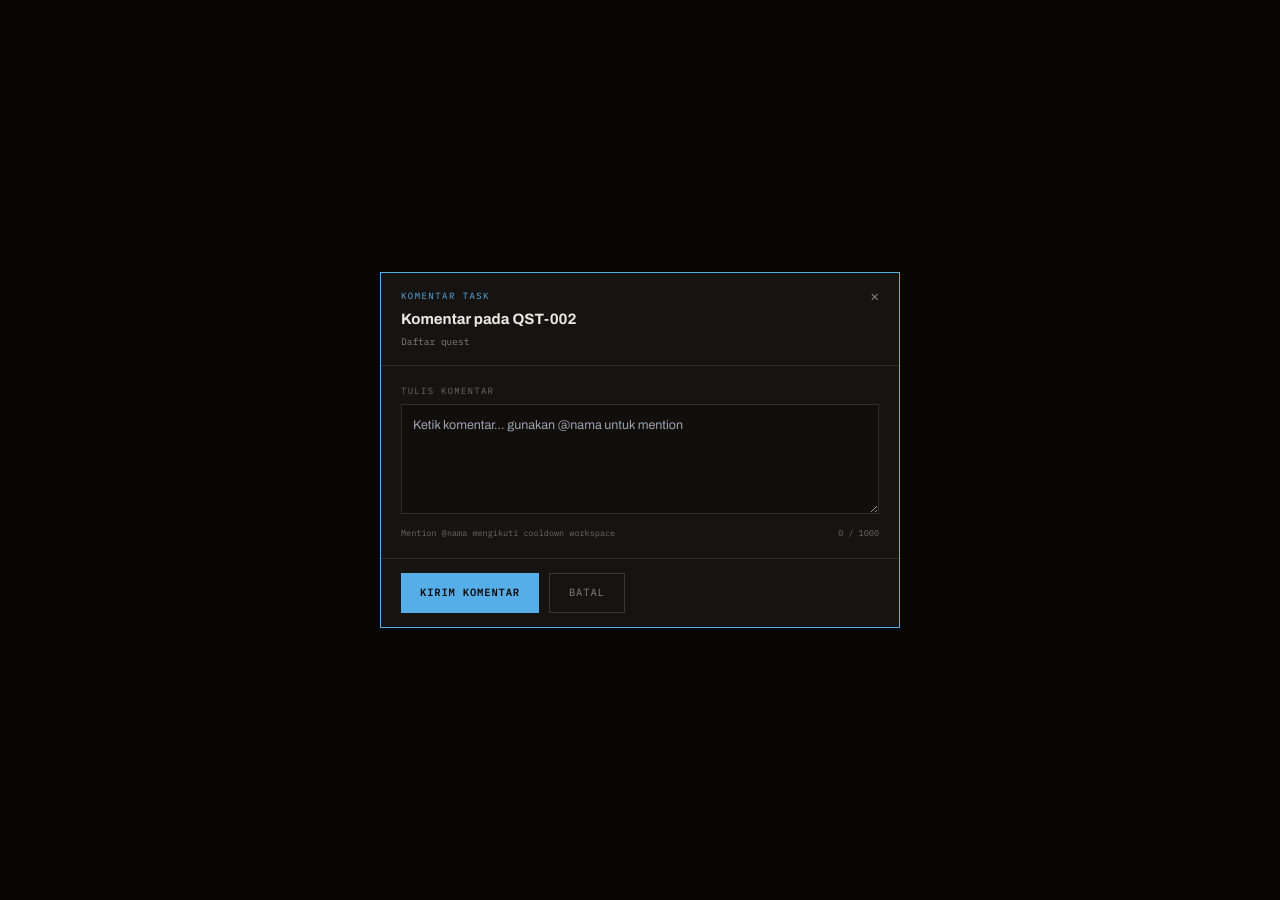
Test case: CommentModal › menghitung karakter dan mention, pesan galat hilang saat mengetik
Click the button "KIRIM KOMENTAR" at point(470, 593), box x1=401 y1=573 x2=539 y2=613
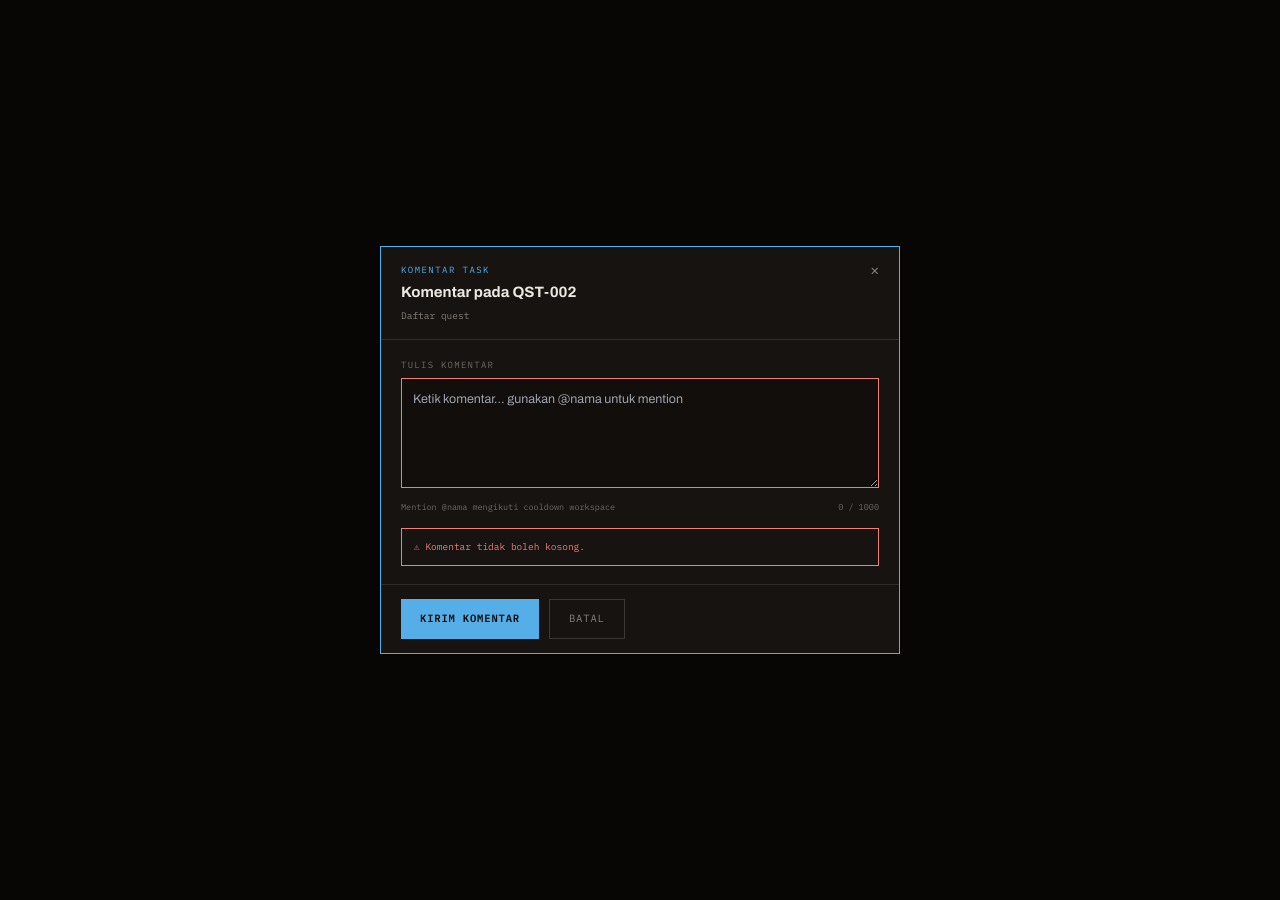
Type "cek @eka dan @budi" into the text box with placeholder "Ketik komentar… gunakan @nama untuk mention" at point(640, 433), box x1=401 y1=378 x2=879 y2=488
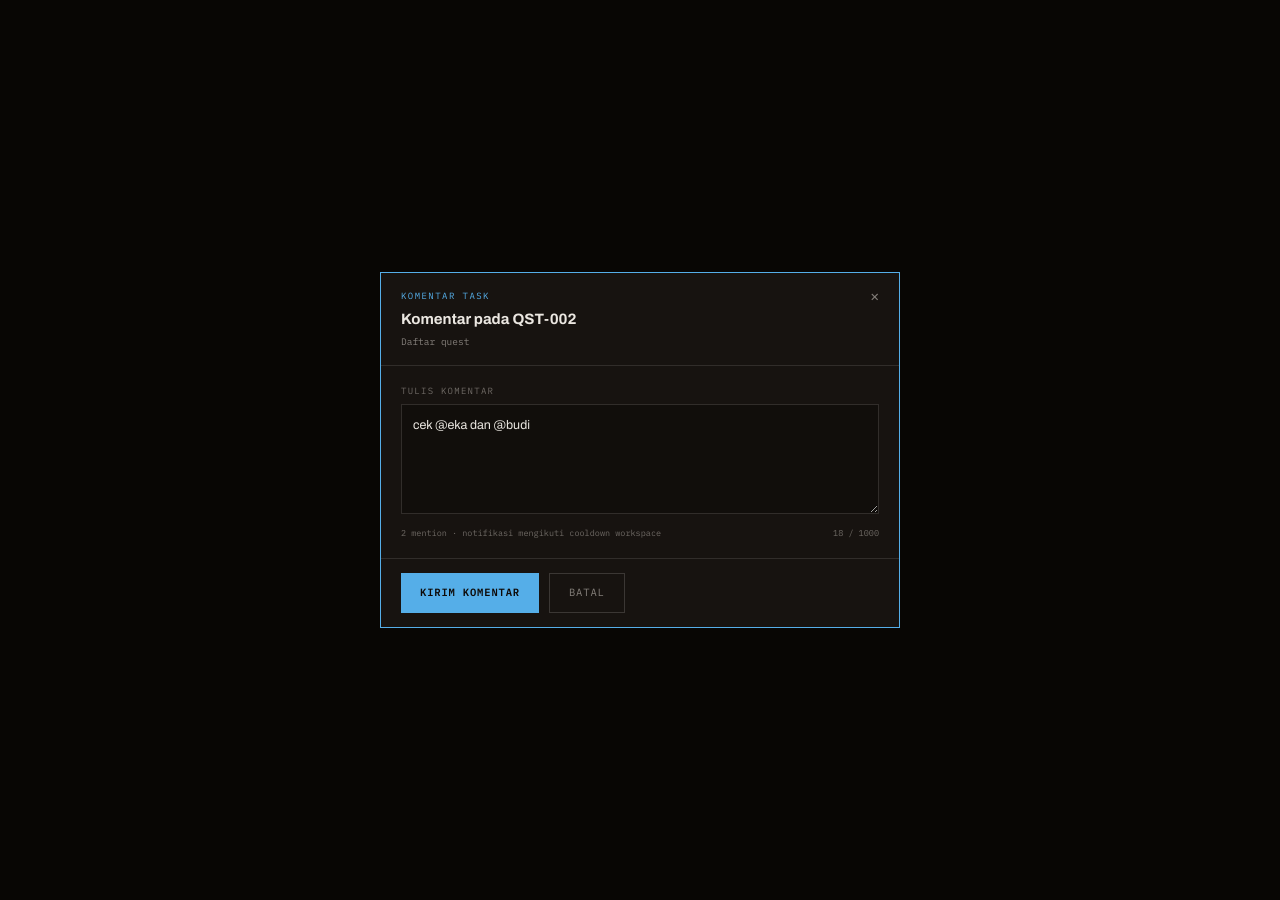
Expected: the text "tidak boleh kosong" is gone
Expected: the text "18 / 1000" is shown, x1=833 y1=528 x2=879 y2=540
Expected: the text "2 mention · notifikasi mengikuti cooldown workspace" is shown, x1=401 y1=528 x2=661 y2=540
